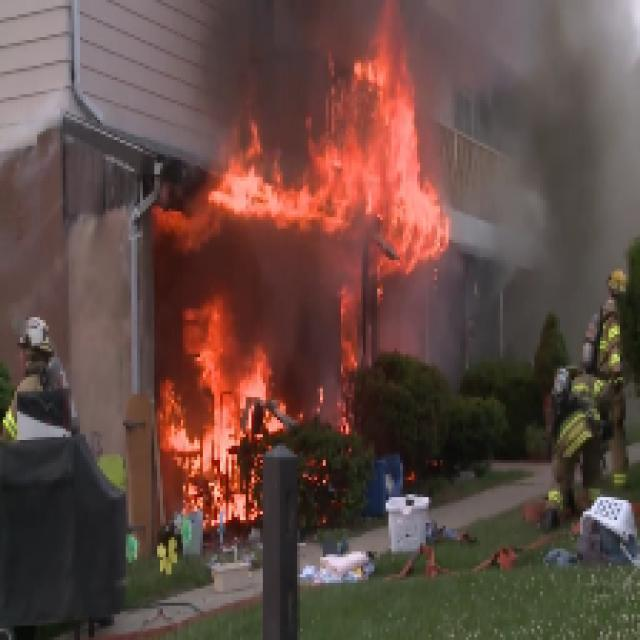Fire: (157, 14, 449, 600)
Smoke: (505, 0, 640, 354), (200, 0, 340, 163)
